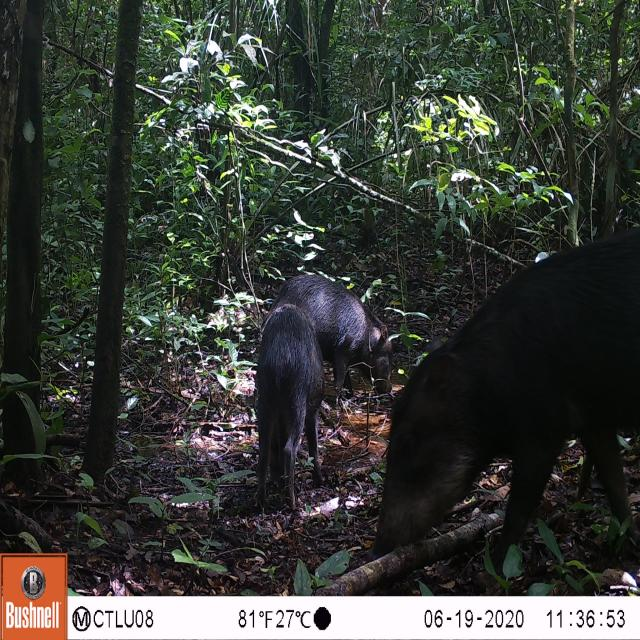Collared Peccary: (360, 208, 636, 578), (237, 263, 382, 524), (245, 260, 402, 399)
